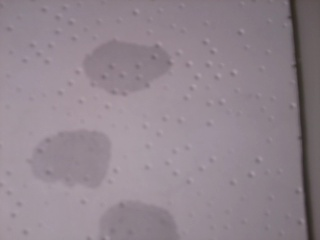Water_detected: (51, 142, 102, 188), (110, 201, 162, 240), (98, 44, 139, 83)
